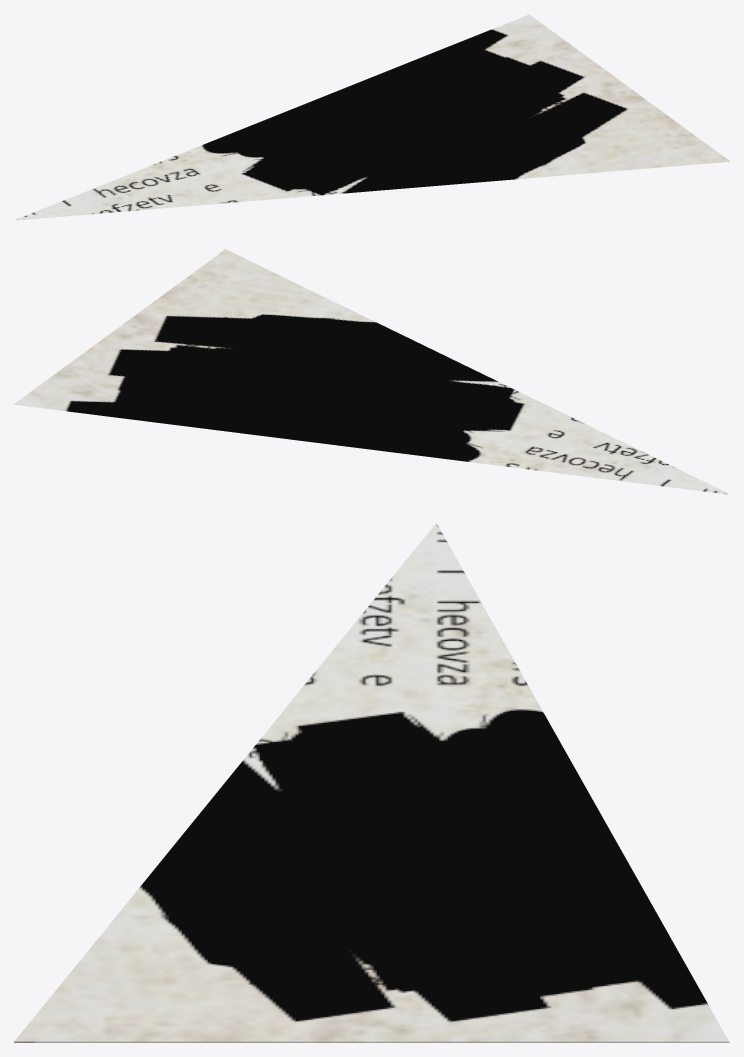
The model's file is cellfracture3.glb.
The picture shows the model from 3 angles, top to bottom: view 1: azimuth 30°, elevation 25°; view 2: azimuth 150°, elevation 25°; view 3: azimuth 270°, elevation 25°; orthographic projection. The views are drawn at different scales.
Parts seen in each view (by area): view 1: Plane.007; view 2: Plane.007; view 3: Plane.007.
Boxes of the visible parts, x1,y1,x2,y2 form: Plane.007: (14, 14, 729, 220); Plane.007: (14, 249, 729, 494); Plane.007: (14, 523, 729, 1042).
Size of the model in its own units: 0.9863 by 0.001 by 0.5745.
1 material, 1 textured.
